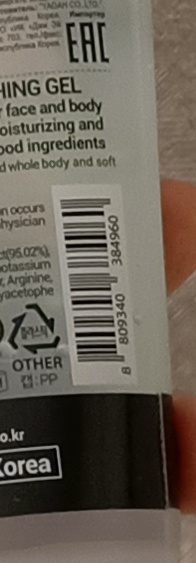1d: (57, 195, 116, 363)
